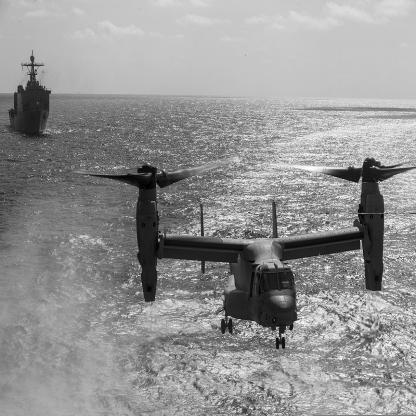V22: (71, 157, 416, 351)
